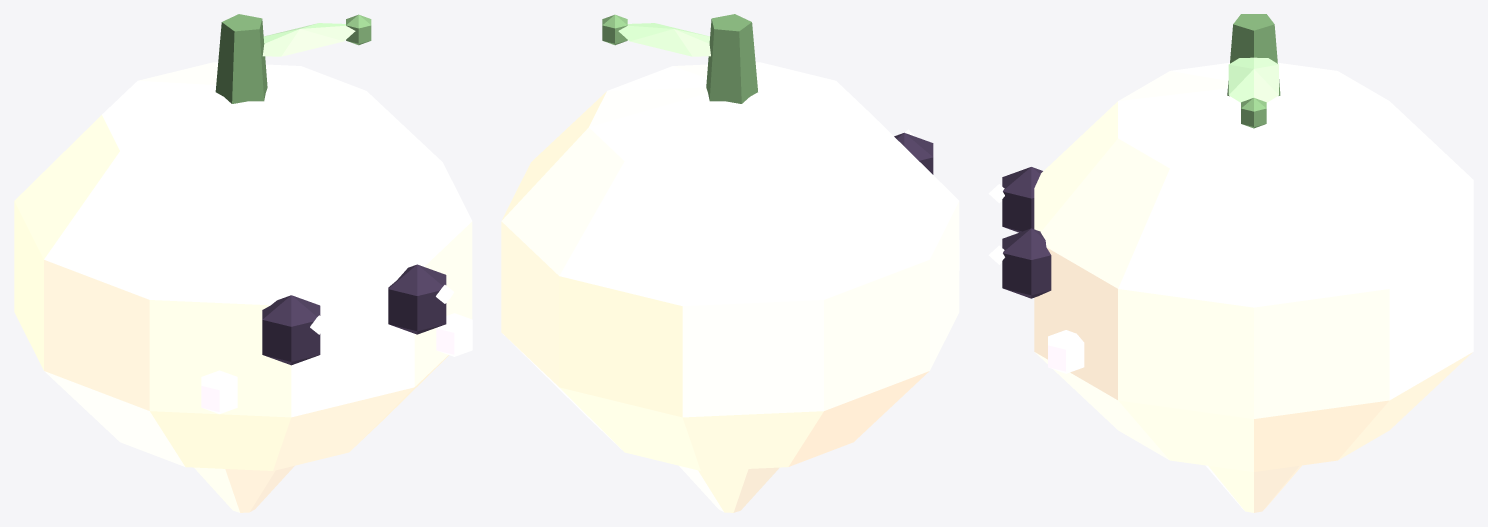
Rendered from spirit_pip.glb.
3 renders of one model, left to right at view 1: azimuth 30°, elevation 25°; view 2: azimuth 150°, elevation 25°; view 3: azimuth 270°, elevation 25°, orthographic.
Parts seen in each view (by area): view 1: squish, eyes, sway; view 2: squish, sway, eyes; view 3: squish, eyes, sway.
Boxes of the visible parts, x1,y1,x2,y2 form: squish: (14, 62, 472, 512); eyes: (262, 264, 453, 365); sway: (215, 14, 371, 103); squish: (501, 62, 959, 512); sway: (602, 14, 757, 103); eyes: (894, 129, 933, 174); squish: (1034, 62, 1473, 512); eyes: (988, 167, 1051, 298); sway: (1227, 14, 1280, 128).
Bounding box in the file's own units: 1.9 × 2.21 × 2.
